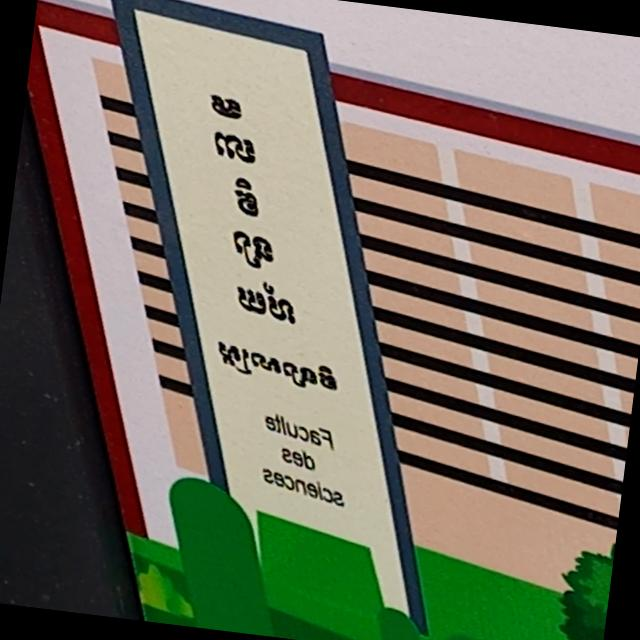Yolov11_80vkh: (162, 66, 357, 411)
